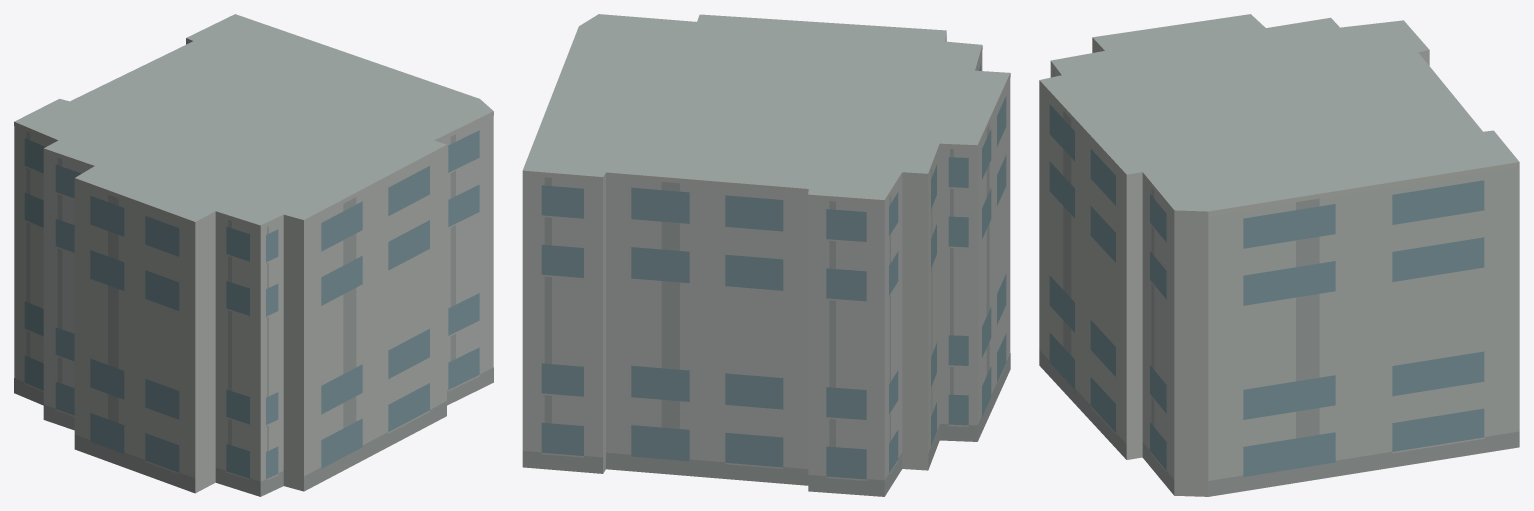
File: survey-upis-32861548.glb
3 views of the same model, side by side, from view 1: azimuth 30°, elevation 25°; view 2: azimuth 150°, elevation 25°; view 3: azimuth 270°, elevation 25° (orthographic). The views are drawn at different scales.
Visible parts, largest first — view 1: survey-upis-32861548.tmp; view 2: survey-upis-32861548.tmp; view 3: survey-upis-32861548.tmp.
Boxes of the visible parts, bbox=[...] form: survey-upis-32861548.tmp: bbox=[14, 14, 493, 496]; survey-upis-32861548.tmp: bbox=[522, 14, 1010, 496]; survey-upis-32861548.tmp: bbox=[1039, 14, 1519, 496].
Size of the model in its own units: 22.12 by 14.9 by 22.73.
